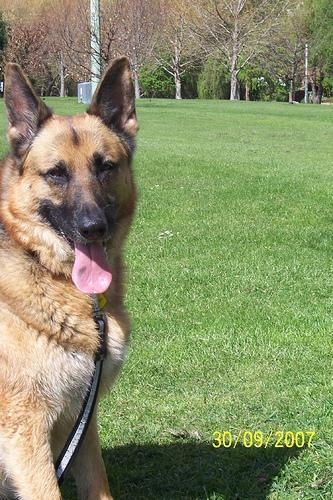German_shepherd: (0, 57, 138, 498)
